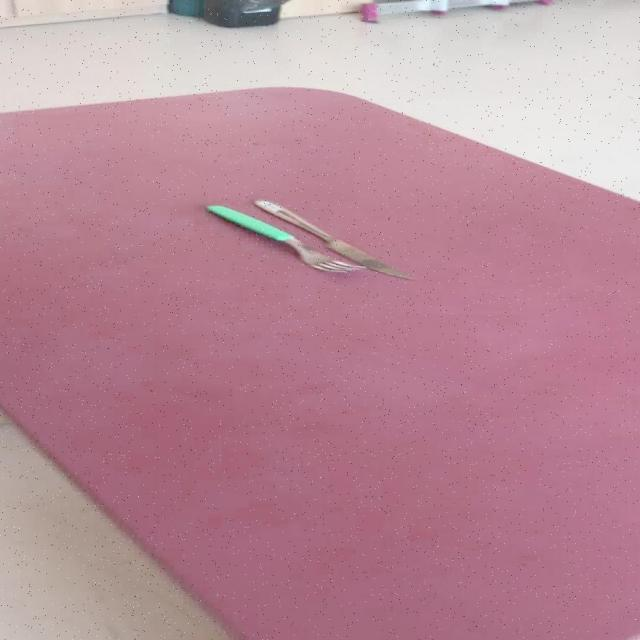Fork: (206, 203, 369, 274)
Knife: (254, 198, 420, 280)
